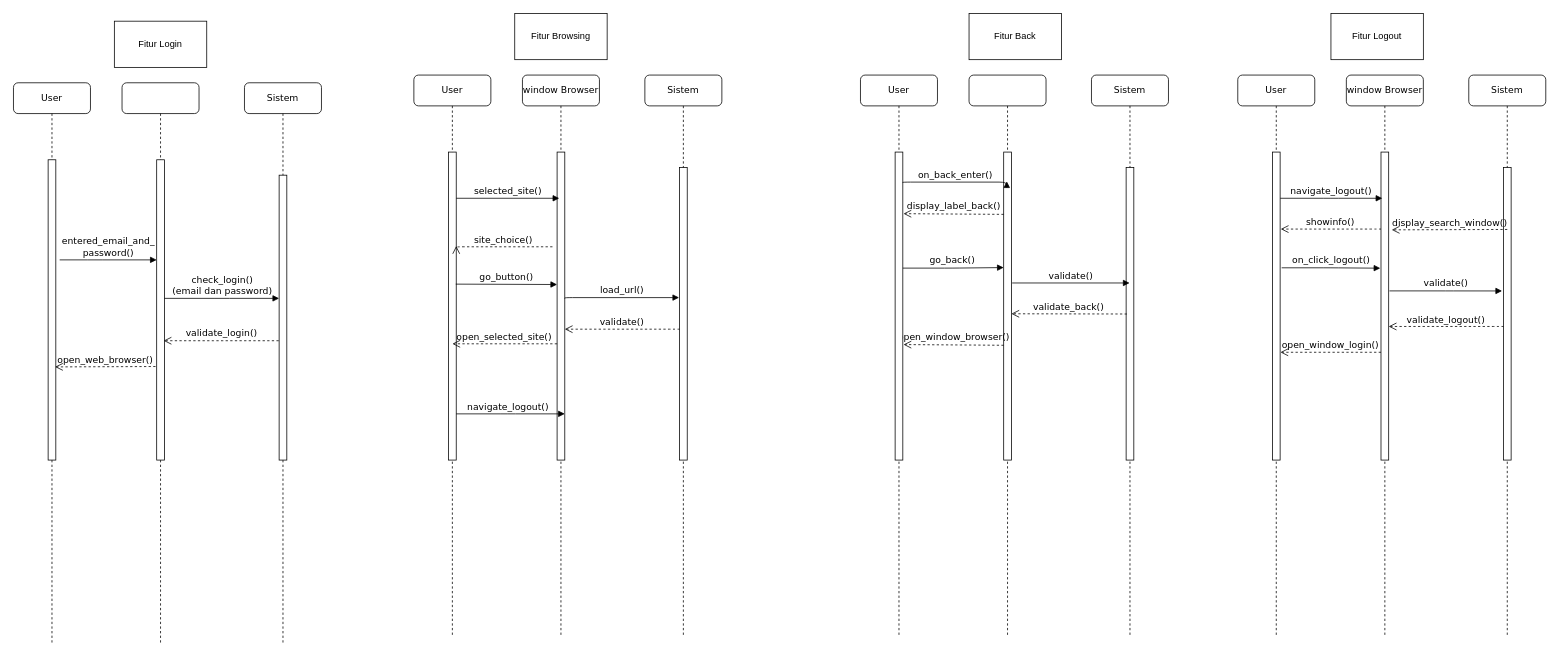
The diagram is 1559 pixels wide and 658 high, and some of its shapes have lost their labels. Each missing label, with the box of its shape:
window LoginApp: (121, 82, 199, 645)
window Situs: (968, 74, 1046, 637)
